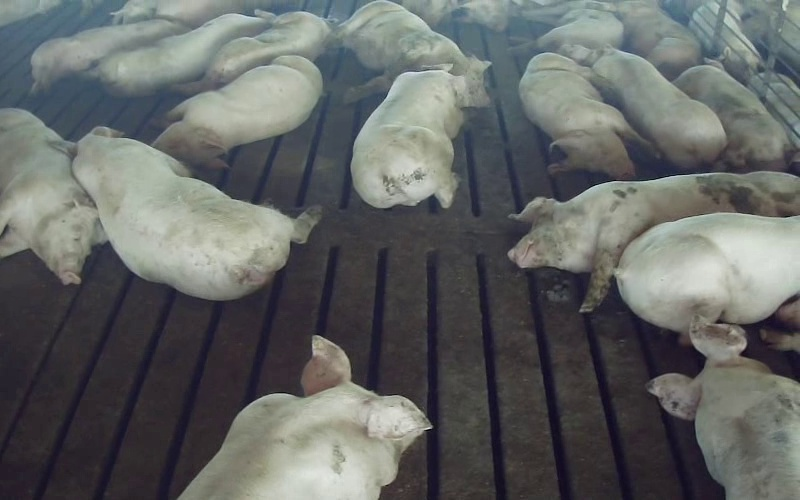pig: (72, 127, 320, 299), (179, 335, 431, 499), (508, 171, 799, 311), (647, 316, 799, 499), (153, 57, 322, 168), (84, 10, 274, 96), (351, 64, 465, 207), (592, 48, 726, 169), (519, 53, 644, 178), (173, 11, 331, 93), (673, 60, 790, 170), (31, 19, 188, 93)
